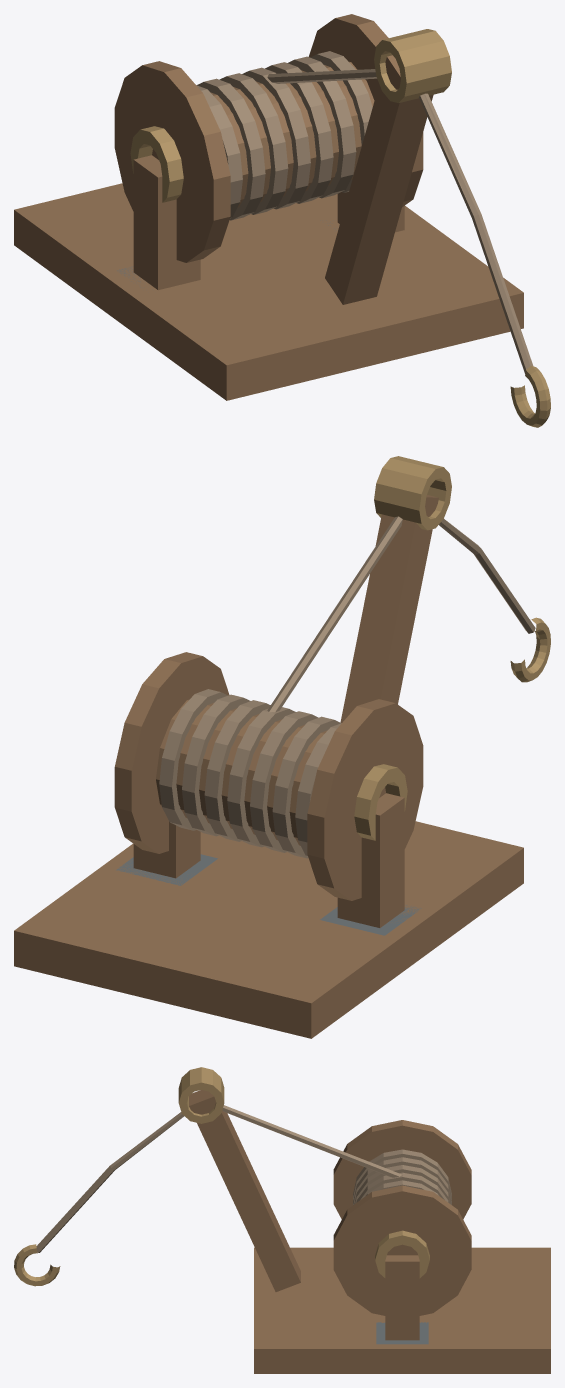
File: vf_fishing_winch.glb
3 renders of one model, top to bottom at view 1: azimuth 30°, elevation 25°; view 2: azimuth 150°, elevation 25°; view 3: azimuth 270°, elevation 25°, orthographic. The views are drawn at different scales.
Visible parts, largest first — view 1: Static_Oak, Rotor_Oak, Rotor_Hide, Static_Bronze, Line_Surface_Hide; view 2: Static_Oak, Rotor_Oak, Rotor_Hide, Static_Bronze, Line_Surface_Hide, Static_Iron; view 3: Static_Oak, Rotor_Oak, Static_Bronze, Rotor_Hide, Line_Surface_Hide, Static_Iron.
Part boxes in pixels (bbox=[...]): Static_Oak: bbox=[14, 55, 523, 400]; Rotor_Oak: bbox=[114, 14, 423, 262]; Rotor_Hide: bbox=[196, 51, 372, 220]; Static_Bronze: bbox=[130, 29, 550, 427]; Line_Surface_Hide: bbox=[267, 69, 533, 373]; Static_Oak: bbox=[14, 495, 523, 1038]; Rotor_Oak: bbox=[114, 652, 423, 900]; Rotor_Hide: bbox=[159, 689, 341, 858]; Static_Bronze: bbox=[354, 456, 550, 840]; Line_Surface_Hide: bbox=[267, 516, 535, 712]; Static_Iron: bbox=[116, 854, 421, 935]; Static_Oak: bbox=[189, 1090, 550, 1373]; Rotor_Oak: bbox=[333, 1120, 471, 1315]; Static_Bronze: bbox=[14, 1067, 429, 1286]; Rotor_Hide: bbox=[353, 1149, 451, 1204]; Line_Surface_Hide: bbox=[36, 1105, 402, 1252]; Static_Iron: bbox=[376, 1322, 428, 1344].
Bounding box in the file's own units: 1.05 × 1.2 × 2.35.
